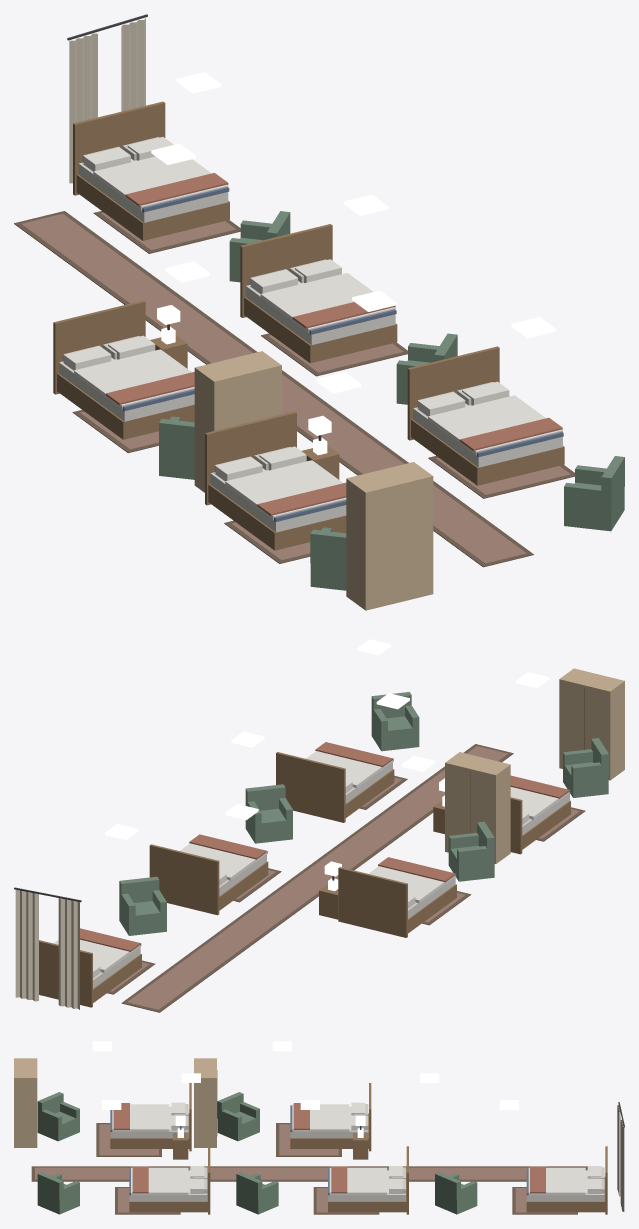
Rendered from fine-s7.glb.
3 renders of one model, top to bottom at view 1: azimuth 30°, elevation 25°; view 2: azimuth 150°, elevation 25°; view 3: azimuth 270°, elevation 25°, orthographic. The views are drawn at different scales.
Parts seen in each view (by area): view 1: soft-s7, dresser.013, bed-frame.034, bed-frame.033, bed-frame.032, bed-frame.030, bed-frame.031, dresser.012, lounge-chair.034, lounge-chair.031, lounge-chair.030, lounge-chair.032 (+3 smaller); view 2: soft-s7, dresser.012, dresser.013, bed-frame.030, bed-frame.033, bed-frame.034, bed-frame.032, lounge-chair.032, lounge-chair.033, lounge-chair.030, lounge-chair.034, lounge-chair.031 (+2 smaller); view 3: soft-s7, dresser.013, dresser.012, bed-frame.032, bed-frame.034, bed-frame.033, lounge-chair.030, lounge-chair.031, bed-frame.030, bed-frame.031, lounge-chair.034, lounge-chair.032 (+3 smaller).
Boxes of the visible parts, x1,y1,x2,y2 form: soft-s7: (14, 14, 574, 567); dresser.013: (346, 462, 433, 610); bed-frame.034: (407, 346, 564, 485); bed-frame.033: (240, 224, 397, 363); bed-frame.032: (73, 101, 229, 240); bed-frame.030: (53, 300, 194, 439); bed-frame.031: (205, 411, 346, 550); dresser.012: (194, 351, 281, 492); lounge-chair.034: (564, 456, 624, 531); lounge-chair.031: (310, 527, 346, 590); lounge-chair.030: (159, 416, 194, 479); lounge-chair.032: (229, 211, 290, 282); soft-s7: (14, 742, 585, 1012); dresser.012: (445, 752, 510, 863); dresser.013: (559, 668, 624, 780); bed-frame.030: (338, 867, 456, 937); bed-frame.033: (149, 844, 268, 915); bed-frame.034: (276, 752, 394, 822); bed-frame.032: (39, 940, 141, 1007); lounge-chair.032: (119, 876, 166, 935); lounge-chair.033: (245, 784, 292, 843); lounge-chair.030: (448, 821, 494, 881); lounge-chair.034: (371, 692, 419, 751); lounge-chair.031: (563, 738, 608, 797); soft-s7: (31, 1102, 624, 1214); dresser.013: (14, 1058, 37, 1147); dresser.012: (194, 1058, 217, 1147); bed-frame.032: (526, 1146, 607, 1214); bed-frame.034: (129, 1146, 210, 1214); bed-frame.033: (328, 1146, 408, 1214); lounge-chair.030: (217, 1092, 259, 1141); lounge-chair.031: (37, 1092, 79, 1141); bed-frame.030: (290, 1083, 371, 1151); bed-frame.031: (110, 1083, 191, 1151); lounge-chair.034: (37, 1172, 79, 1214); lounge-chair.032: (435, 1172, 477, 1214).
Size of the model in its own units: 5.58 by 2.77 by 15.8.
